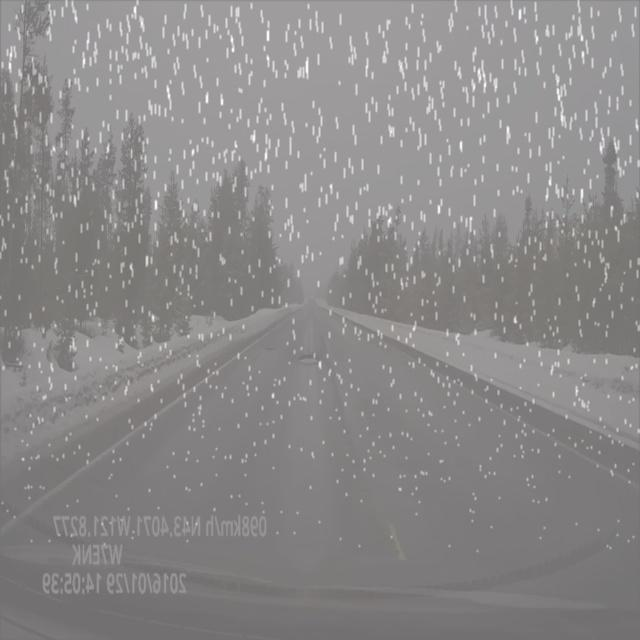Pothole: (296, 347, 328, 375)
